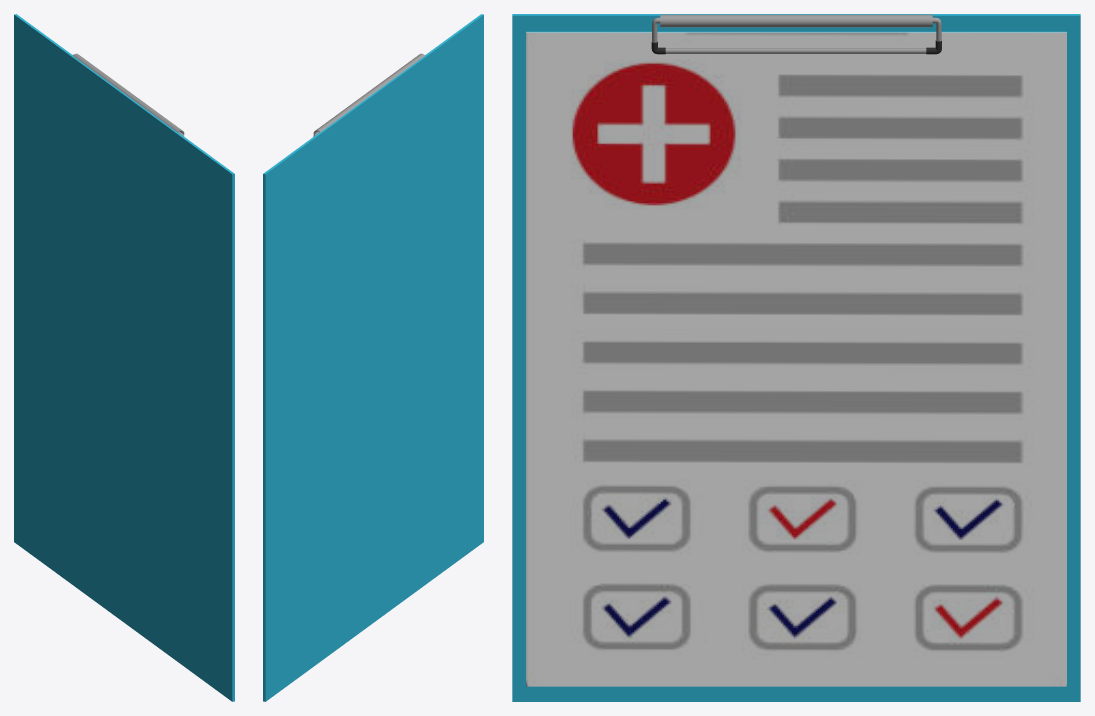
File: MedicalRapor.fbx
3 views of the same model, side by side, from view 1: azimuth 30°, elevation 25°; view 2: azimuth 150°, elevation 25°; view 3: azimuth 270°, elevation 25° (orthographic). The views are drawn at different scales.
Parts seen in each view (by area): view 1: Cube; view 2: Cube; view 3: Cube.
Boxes of the visible parts, x1=… form: Cube: x1=14, y1=14, x2=234, y2=701; Cube: x1=263, y1=14, x2=483, y2=701; Cube: x1=512, y1=14, x2=1080, y2=701.
Size of the model in its own units: 0.0365 by 2.1 by 1.57.
